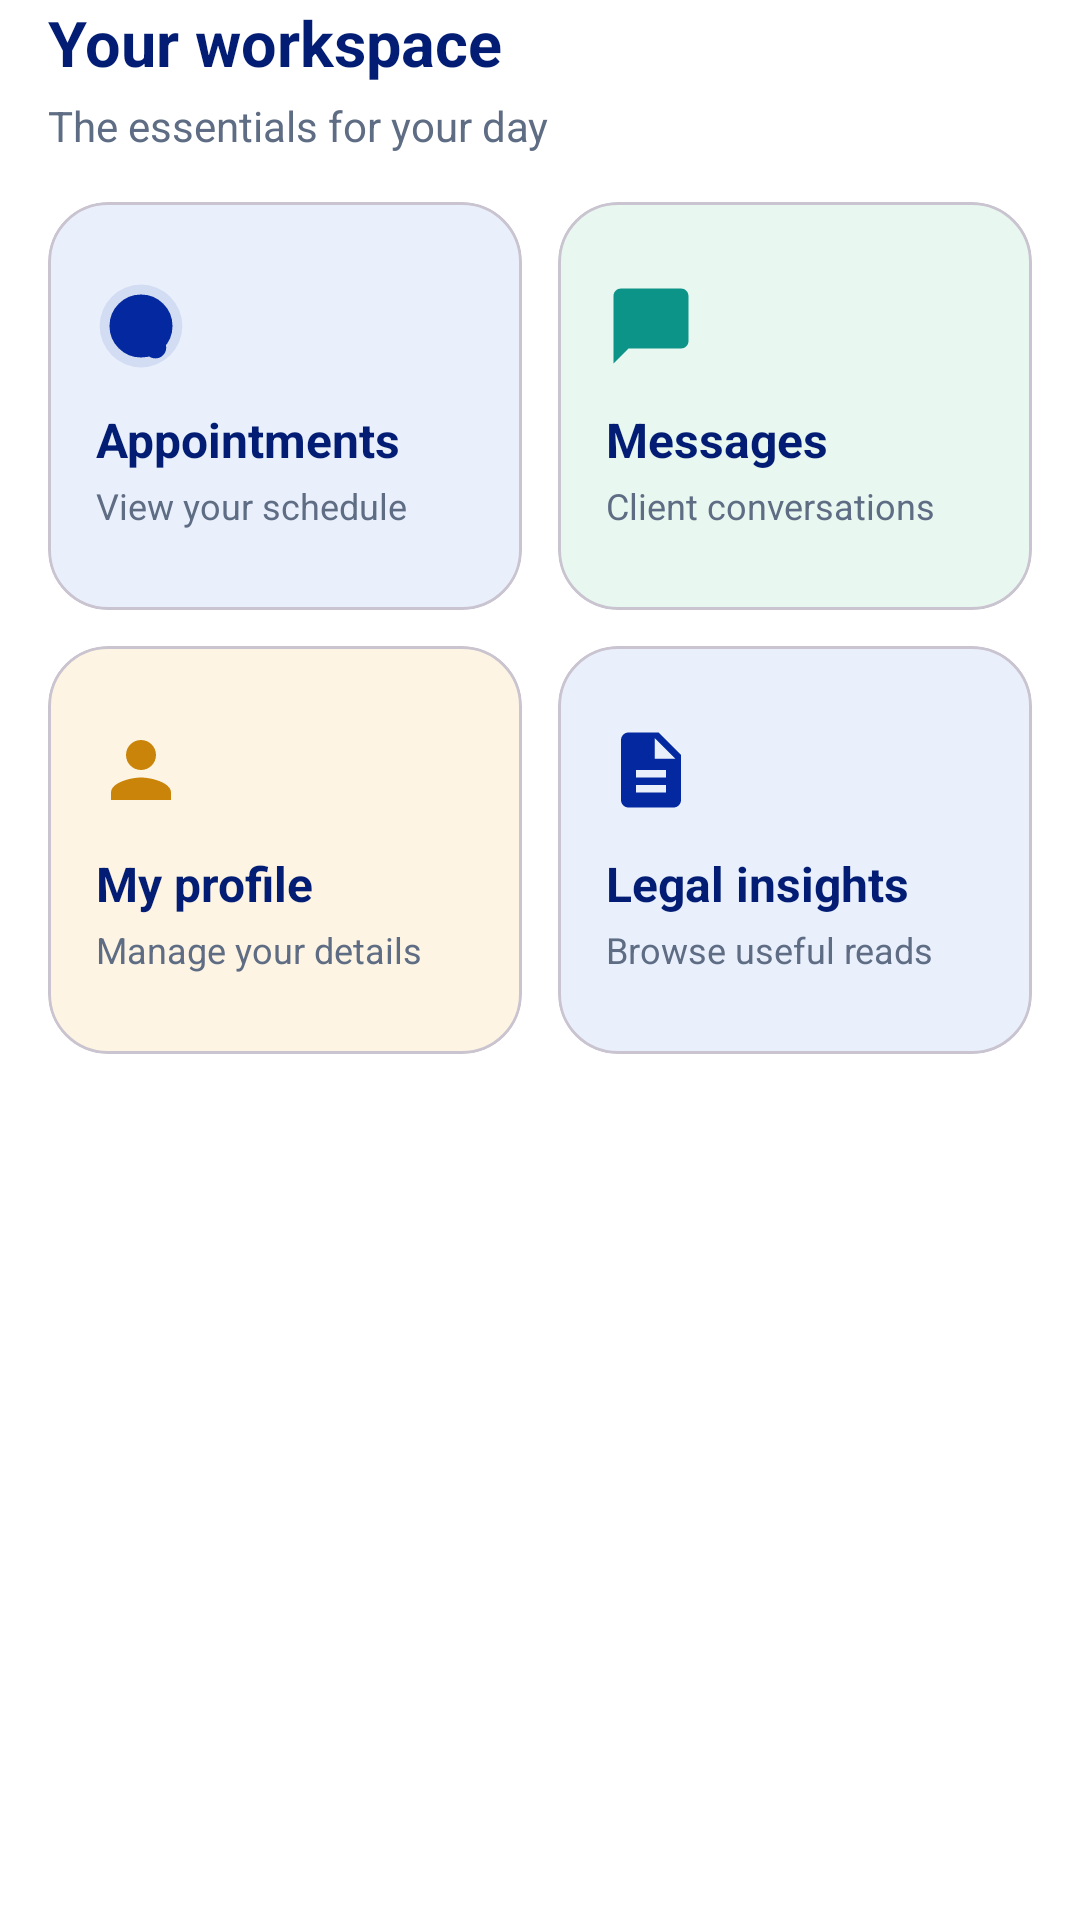

Point at icon controls on the screen. Image size 1080 x 1920, points as (x=x, y=y).
chat: (x=651, y=326)
description: (x=651, y=770)
